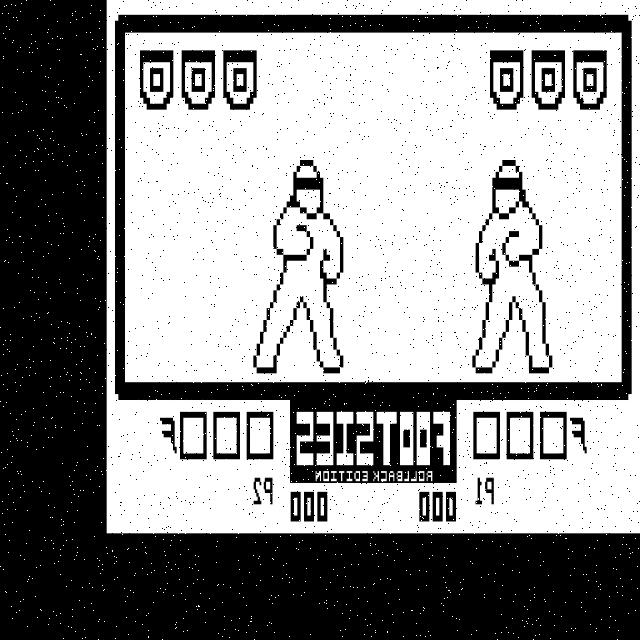Idle: (472, 142, 554, 375)
walkF: (254, 154, 348, 375)
